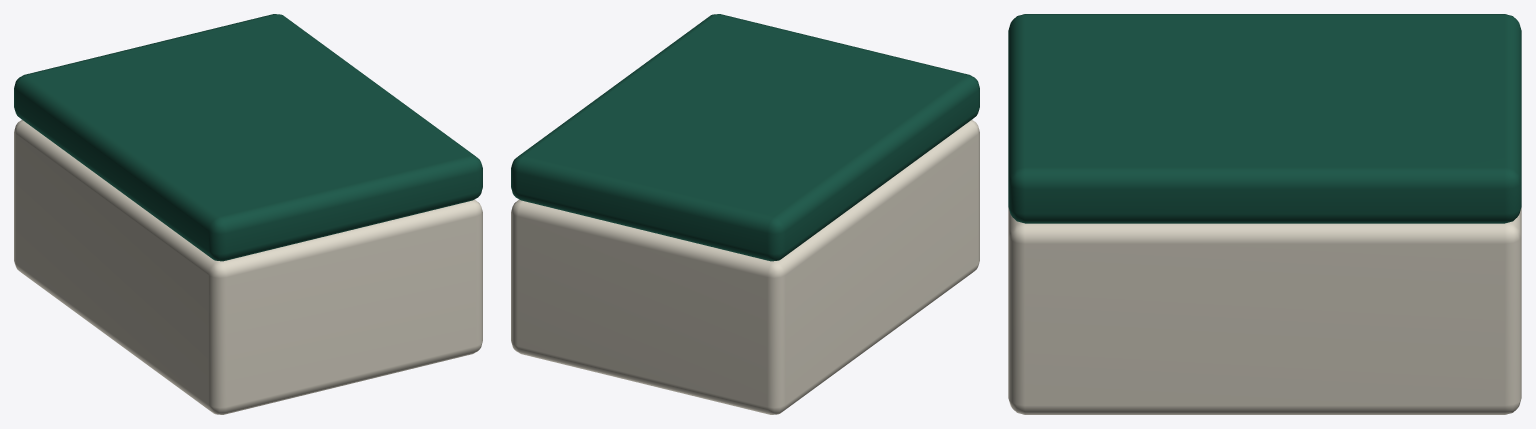
File: tile-back.glb
3 views of the same model, side by side, from view 1: azimuth 30°, elevation 25°; view 2: azimuth 150°, elevation 25°; view 3: azimuth 270°, elevation 25° (orthographic). The views are drawn at different scales.
Parts seen in each view (by area): view 1: tile-back_ivory, tile-back_back; view 2: tile-back_ivory, tile-back_back; view 3: tile-back_back, tile-back_ivory.
Part boxes in pixels (x1,y1,x2,y2): tile-back_ivory: (14,120,482,414); tile-back_back: (14,14,482,261); tile-back_ivory: (511,120,979,414); tile-back_back: (511,14,979,261); tile-back_back: (1008,14,1521,223); tile-back_ivory: (1008,207,1521,414).
Bounding box in the file's own units: 0.026 × 0.018 × 0.034.
